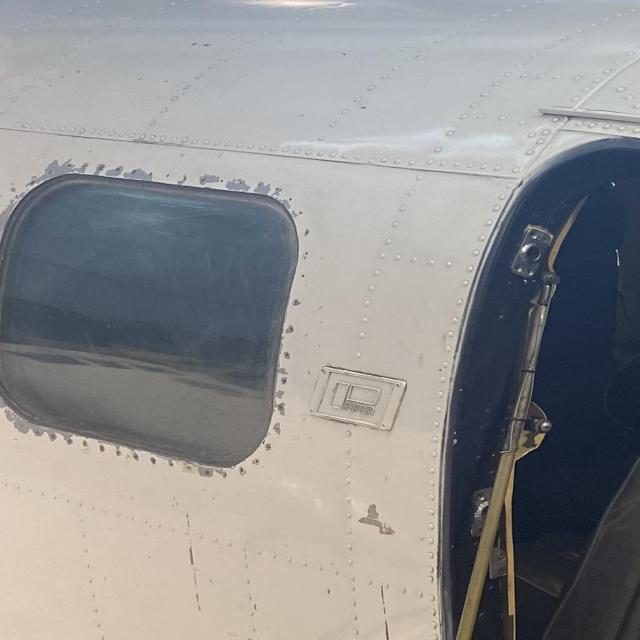Paint-off: (274, 385, 287, 406), (275, 363, 291, 379), (281, 199, 293, 210)
